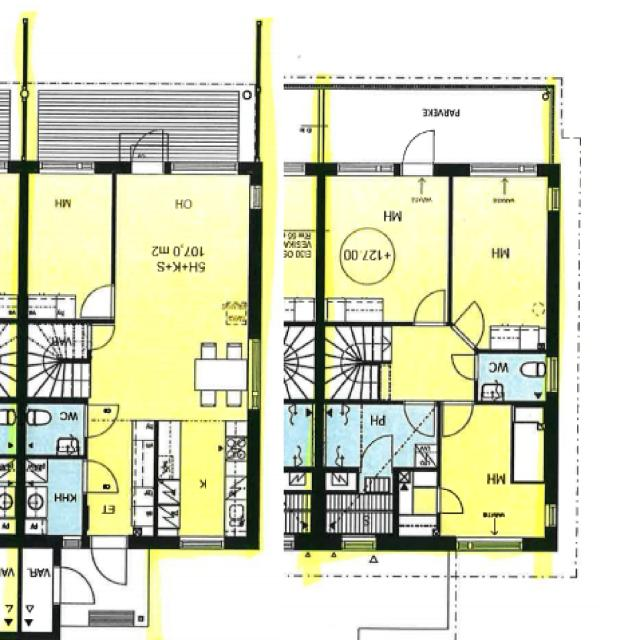door: (61, 540, 136, 602), (329, 411, 401, 473), (397, 125, 441, 179), (89, 535, 131, 589), (50, 564, 96, 607), (128, 128, 169, 174), (410, 284, 450, 328), (77, 280, 118, 320), (400, 398, 438, 441), (78, 402, 118, 441), (80, 459, 120, 497), (360, 432, 395, 474), (439, 398, 474, 439), (446, 348, 484, 384), (84, 320, 118, 354), (436, 484, 467, 518)
window: (463, 158, 540, 180), (330, 158, 400, 179), (246, 336, 265, 412), (451, 534, 523, 554), (170, 160, 239, 177), (176, 534, 230, 552), (543, 354, 563, 398), (38, 160, 100, 174), (339, 533, 379, 551), (543, 501, 561, 532), (248, 182, 266, 212), (546, 185, 562, 217), (60, 534, 84, 550)
zone: (103, 166, 254, 419), (321, 172, 450, 322), (450, 171, 552, 351), (437, 404, 551, 544), (26, 170, 112, 320), (155, 411, 251, 541), (21, 457, 85, 539), (323, 406, 403, 471), (320, 469, 394, 535), (7, 545, 56, 637), (477, 352, 550, 402), (23, 402, 86, 456), (397, 469, 439, 539), (1, 391, 20, 544), (0, 170, 19, 322)
